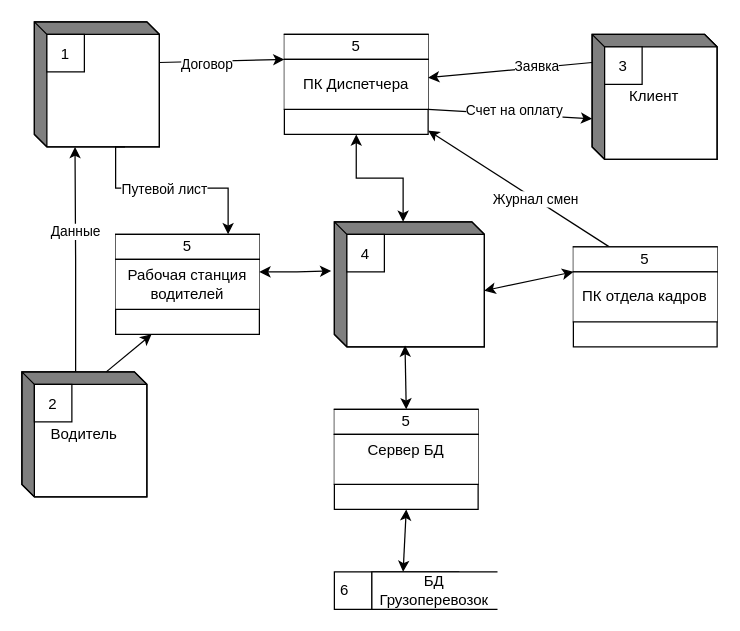
This 740x631 diagram has some shape labels left out. The shapes that lost their labels are listed below. From the top down, each one's centre as x and y in pixels, then its label:
At pixel 96 84: "Диспетчер".
At pixel 408 284: "локальная сеть".
